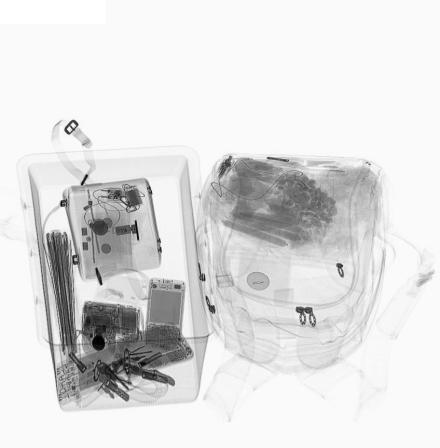Powerbank: (55, 338, 143, 401)
